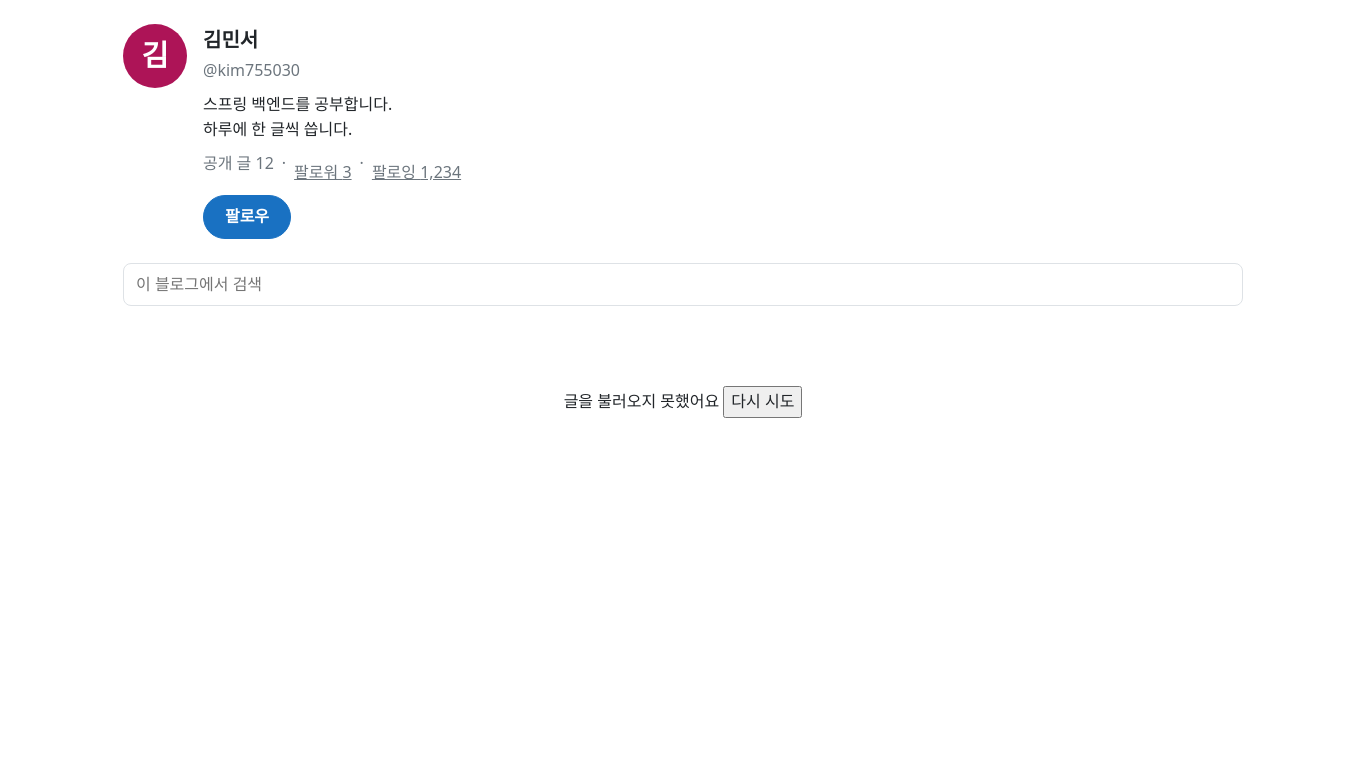
Test: BlogPage › 첫 글 목록을 못 불러오면 "글을 불러오지 못했어요 [다시 시도]" (005 T071)
Expected: the text "글을 불러오지 못했어요" is shown, [564,390,719,412]
Click the button "다시 시도". click: (763,402)
box: [723,386,802,418]
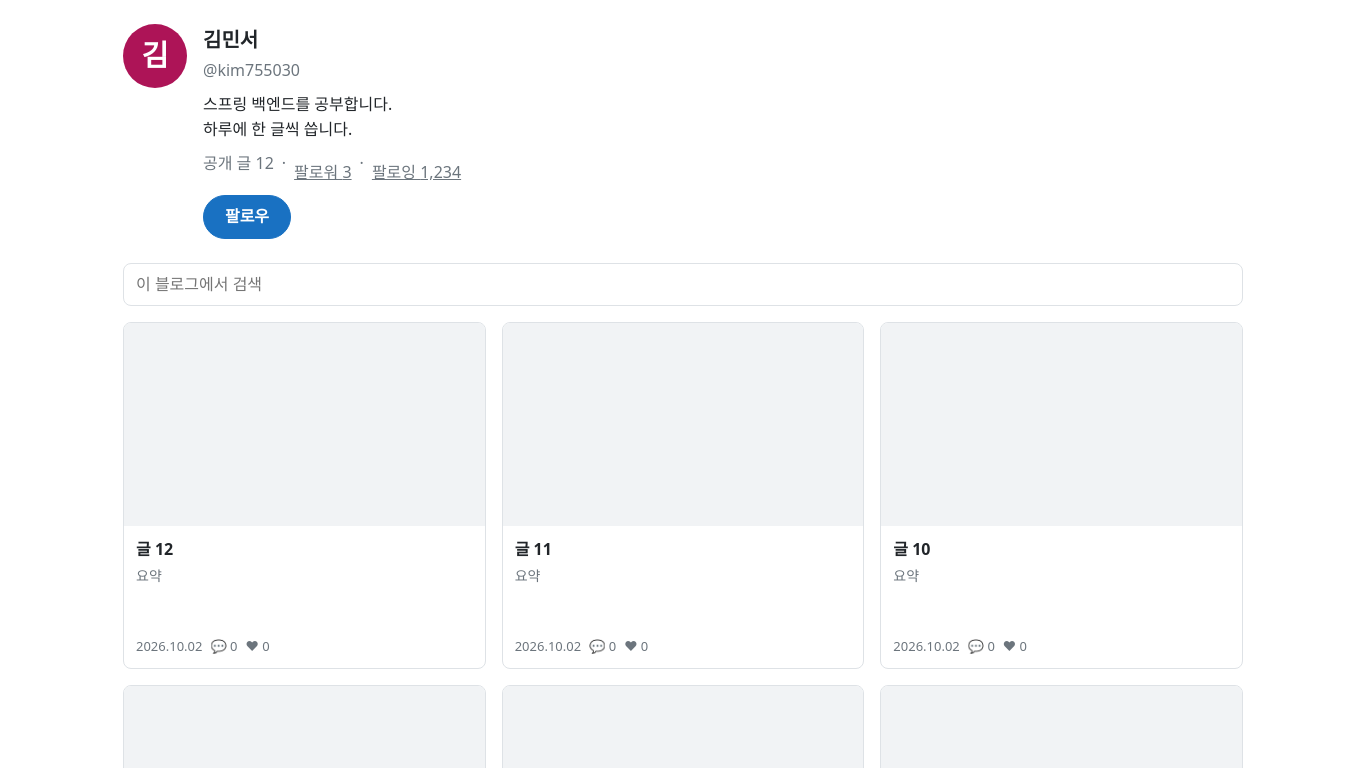
Expected: the number of elements with test id "post-card" is 9
Expected: the text "글을 불러오지 못했어요" is gone
